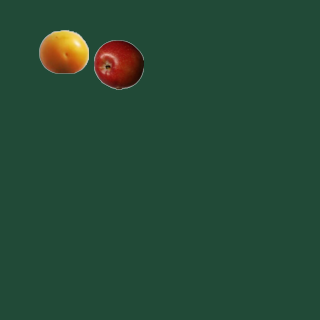Apple Braeburn: (93, 39, 143, 89)
Cherry Wax Yellow: (38, 26, 88, 76)
